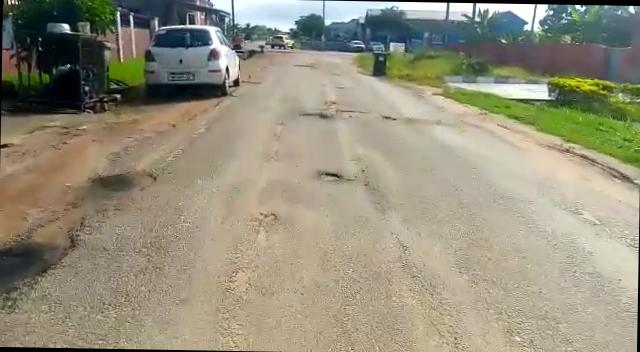pothole: (316, 170, 349, 184)
